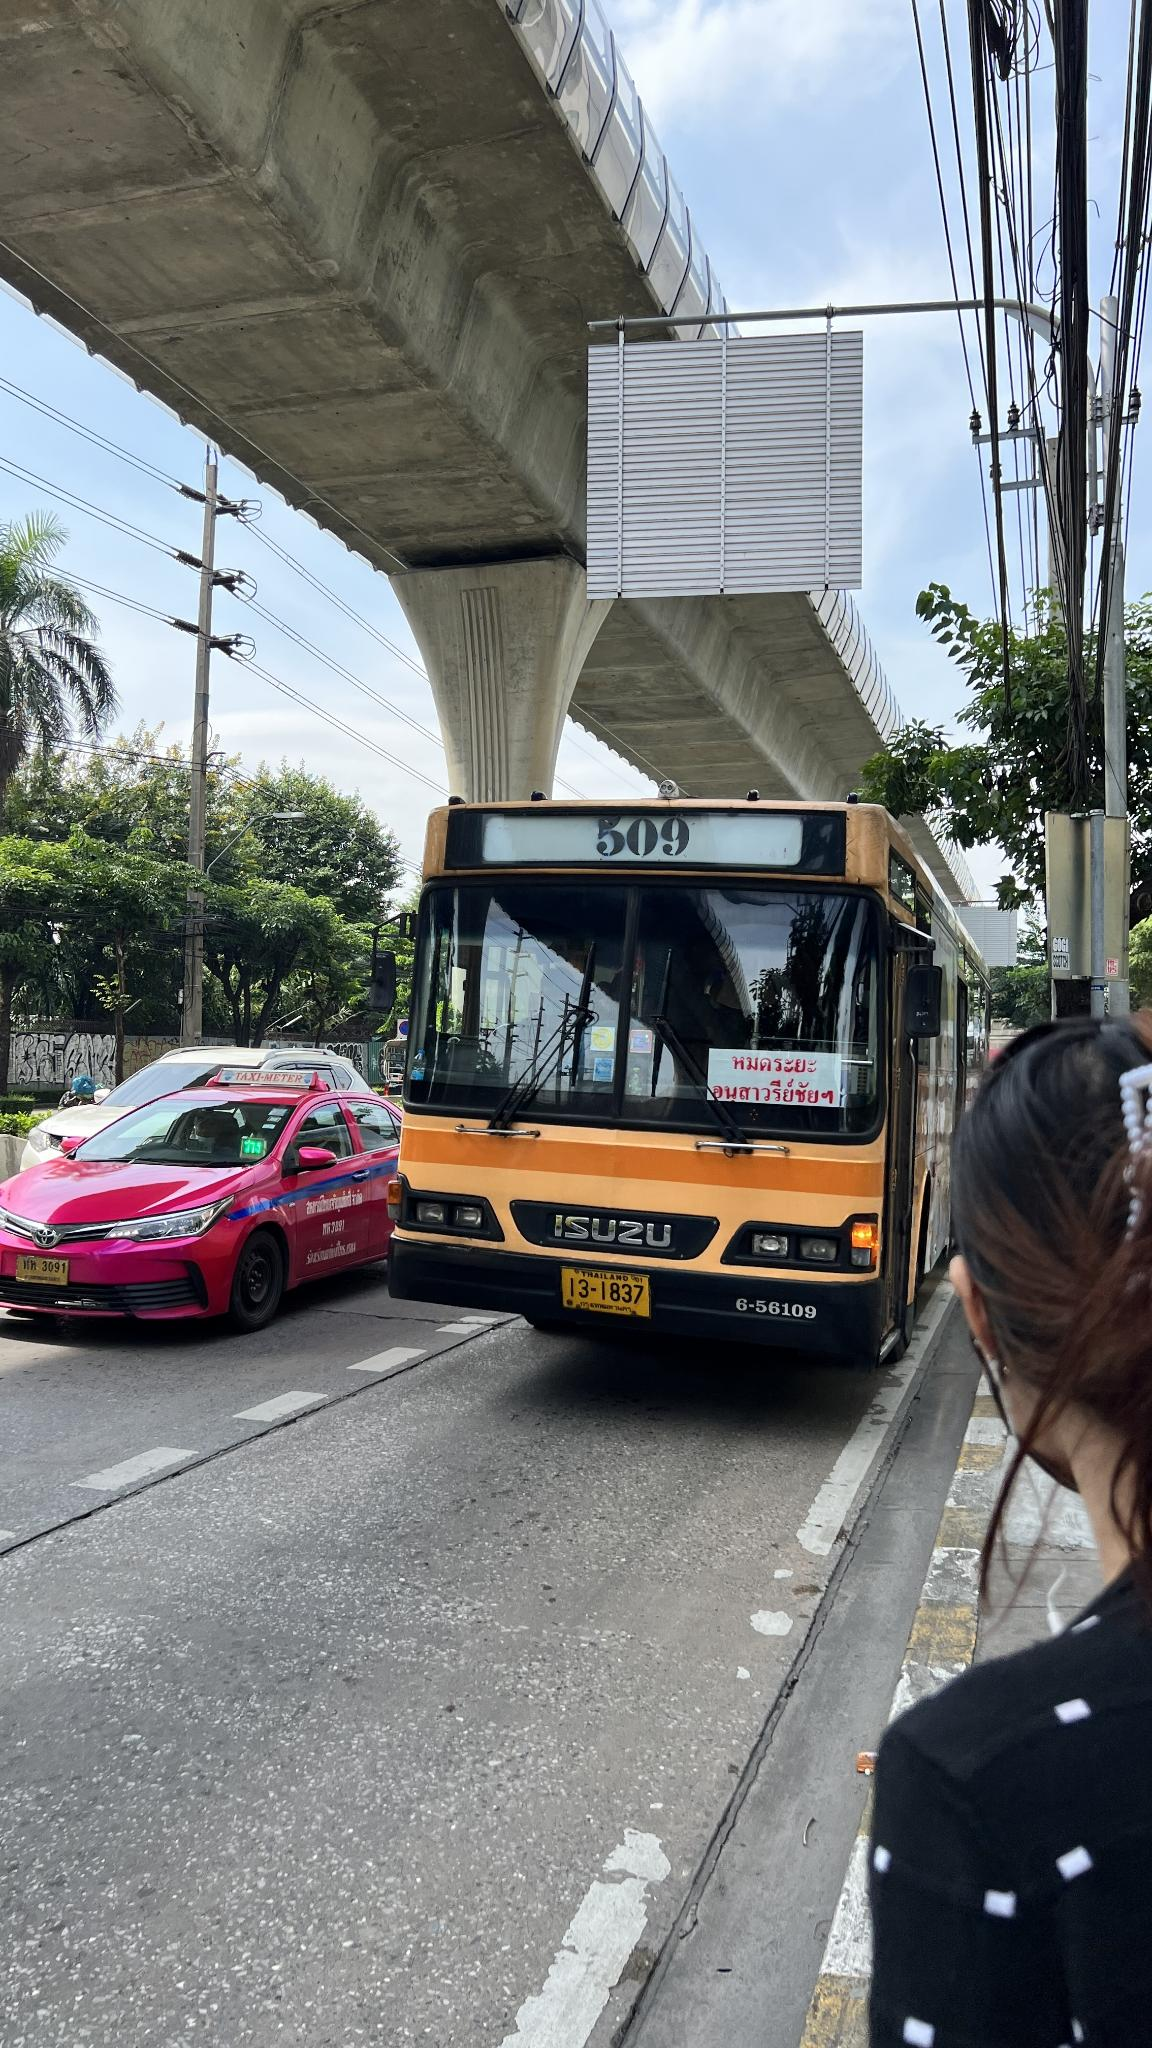BMTA-bus: (391, 796, 979, 1369)
Bus Line Number: (587, 813, 700, 861)
Bus Side Number: (733, 1286, 823, 1329)
Destination Sign: (706, 1049, 840, 1107)
